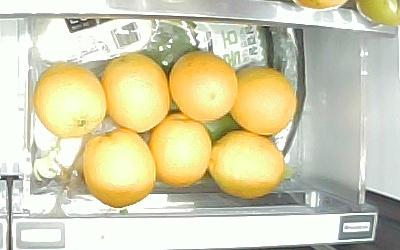orange: (83, 129, 155, 209), (33, 62, 105, 138), (102, 51, 168, 133), (210, 129, 287, 199), (168, 50, 238, 121), (231, 63, 295, 136), (151, 115, 212, 188)
